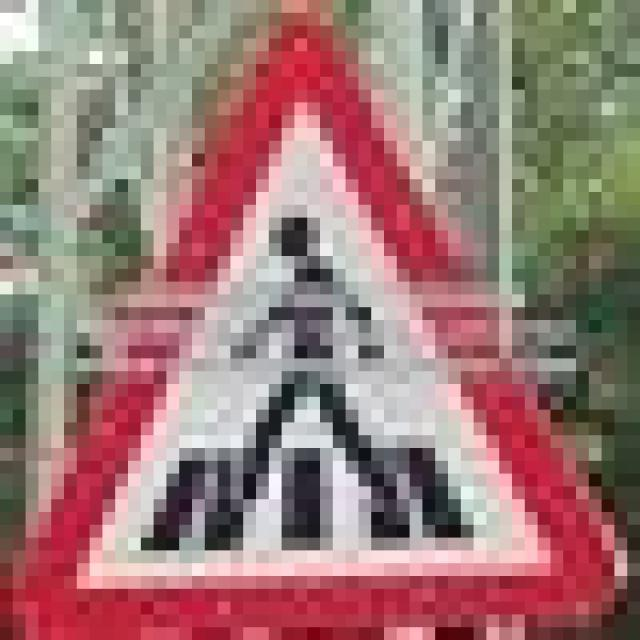pedestrian crossing: (23, 15, 608, 624)
